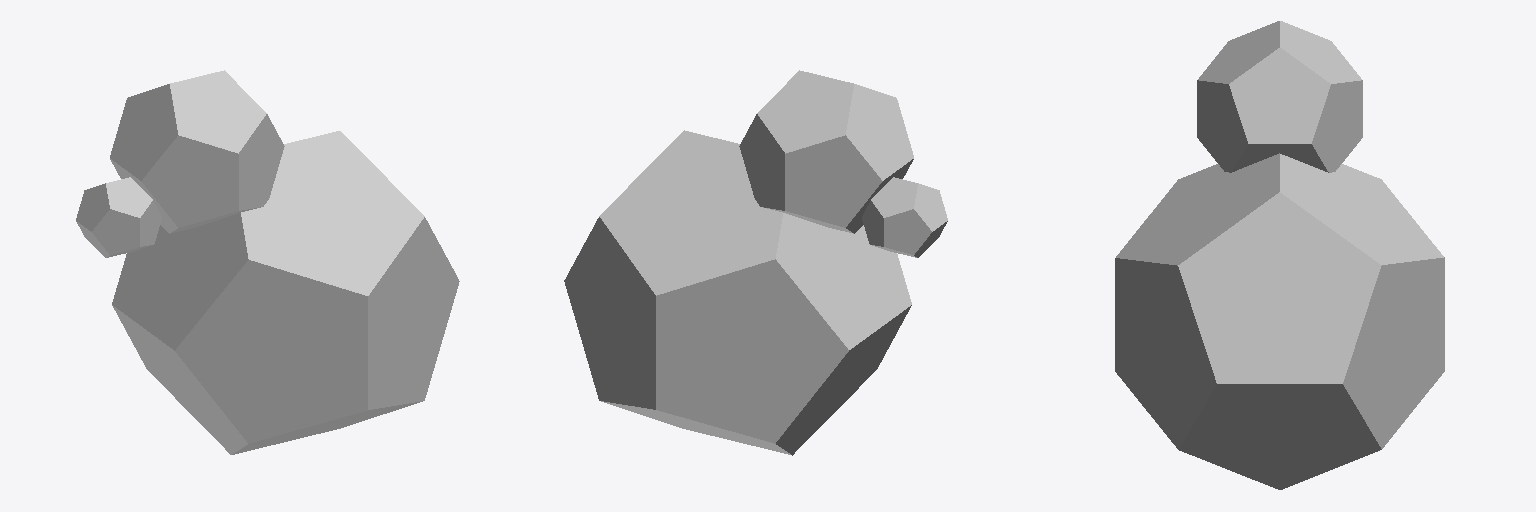
The model's file is threeIV.obj.
3 views of the same model, side by side, from view 1: azimuth 30°, elevation 25°; view 2: azimuth 150°, elevation 25°; view 3: azimuth 270°, elevation 25° (orthographic).
Bounding box in the file's own units: 7.09 × 7.6 × 5.87.